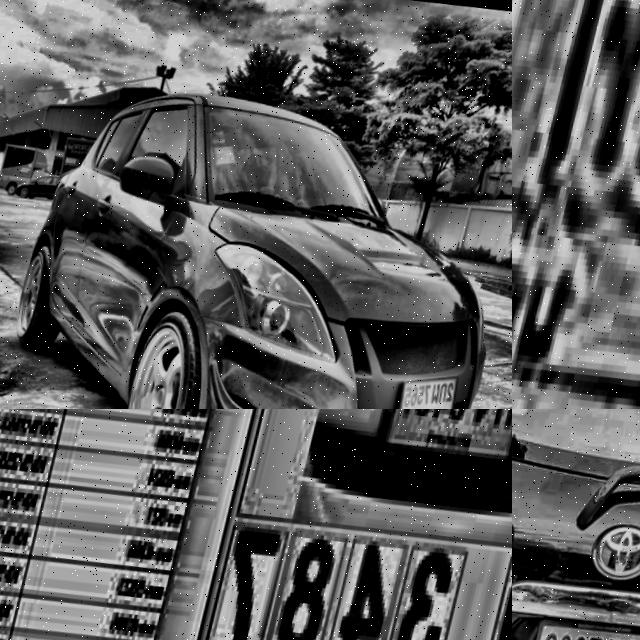license-plate: (512, 0, 640, 409), (360, 409, 512, 496), (398, 371, 470, 409)
